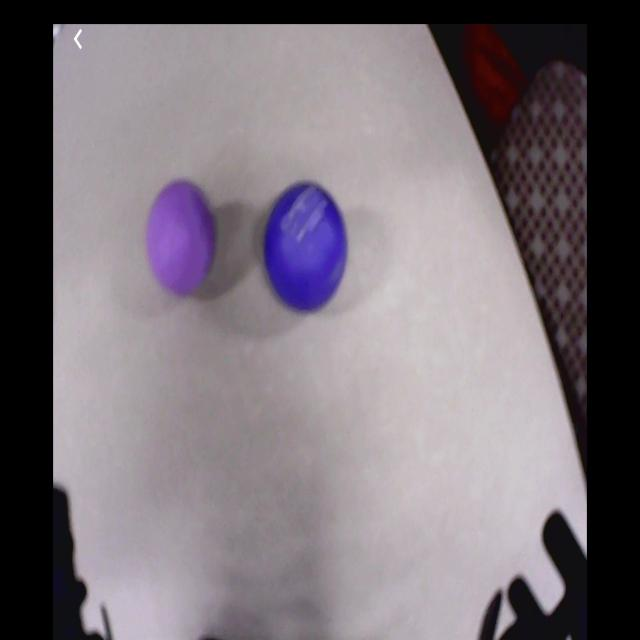ball: (266, 180, 351, 313), (148, 180, 218, 292)
